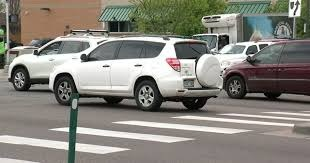crosswalk: (0, 111, 309, 162)
